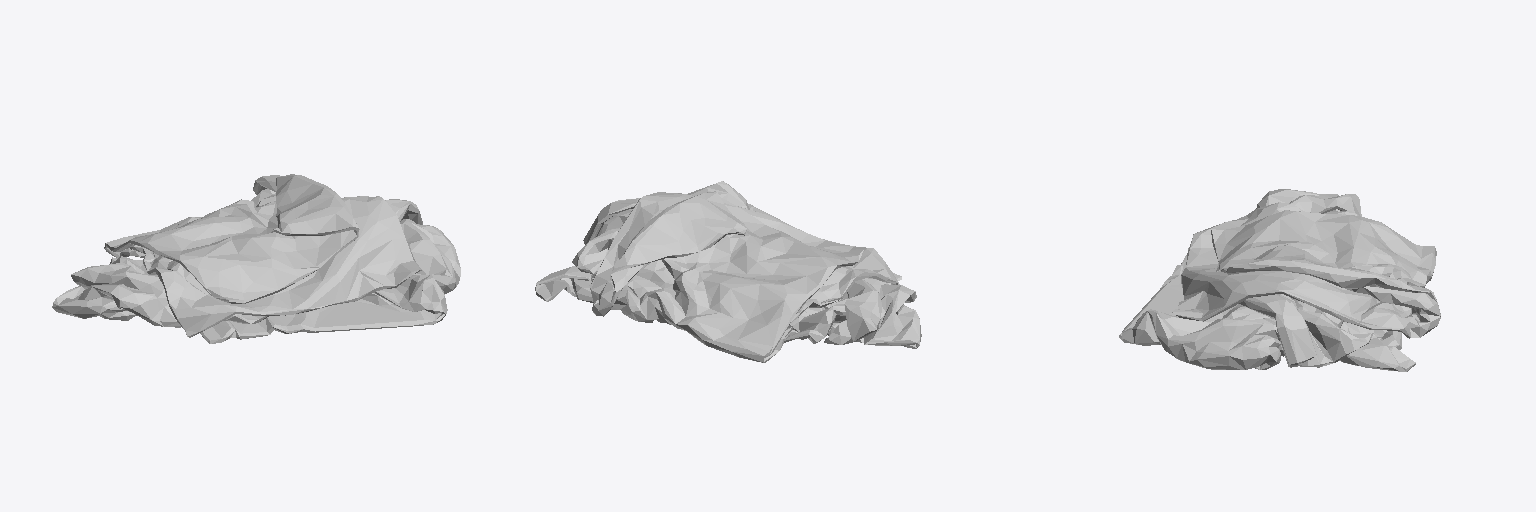
Rendered from Sheets.obj.
3 views of the same model, side by side, from view 1: azimuth 30°, elevation 25°; view 2: azimuth 150°, elevation 25°; view 3: azimuth 270°, elevation 25° (orthographic).
Parts seen in each view (by area): view 1: Sheets; view 2: Sheets; view 3: Sheets.
Part boxes in pixels (x1,y1,x2,y2): Sheets: (52,174,460,343); Sheets: (535,181,921,362); Sheets: (1119,189,1440,371).
Size of the model in its own units: 2.99 by 0.5775 by 2.35.